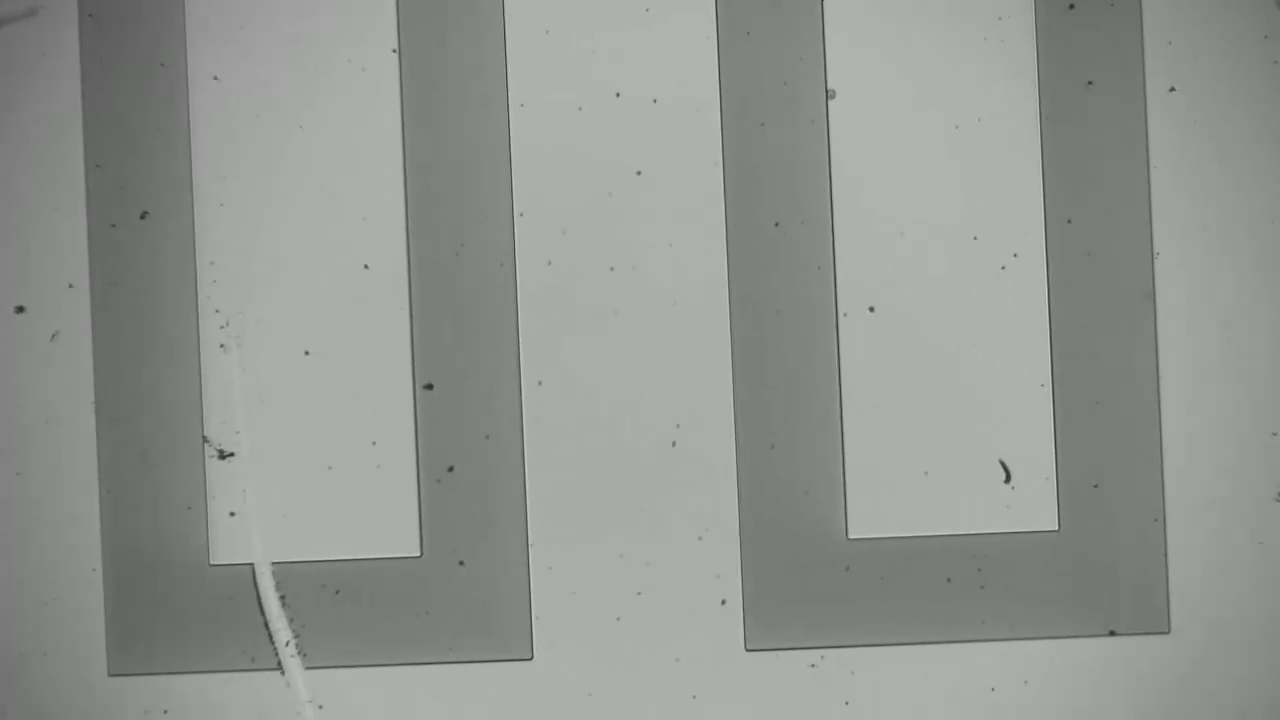Short_circuit: (233, 512, 332, 710)
